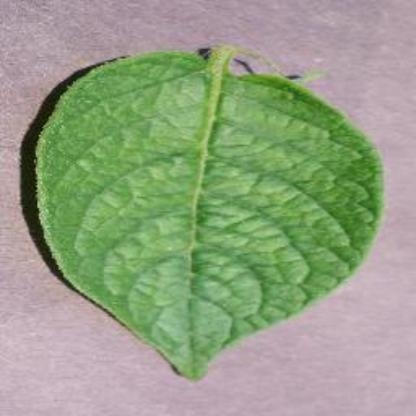Healthy-plant: (30, 38, 386, 380)
